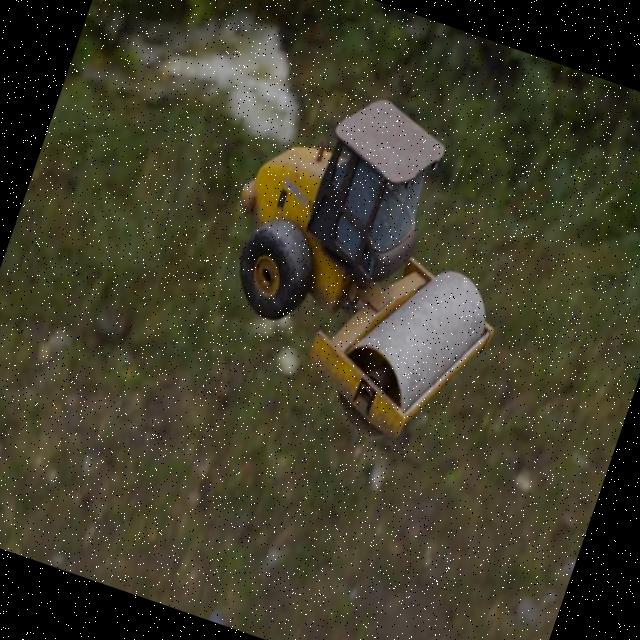Roller: (178, 63, 553, 466)
